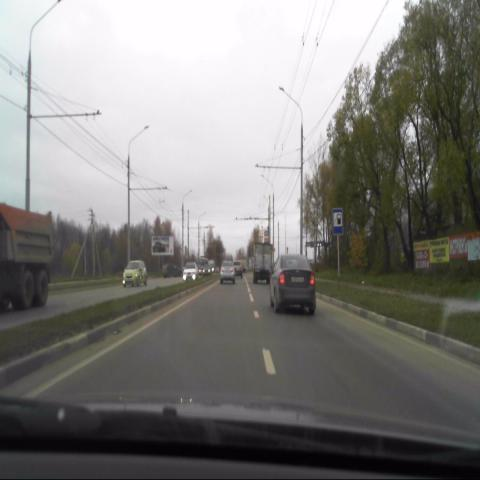7_3: (331, 208, 344, 236)
